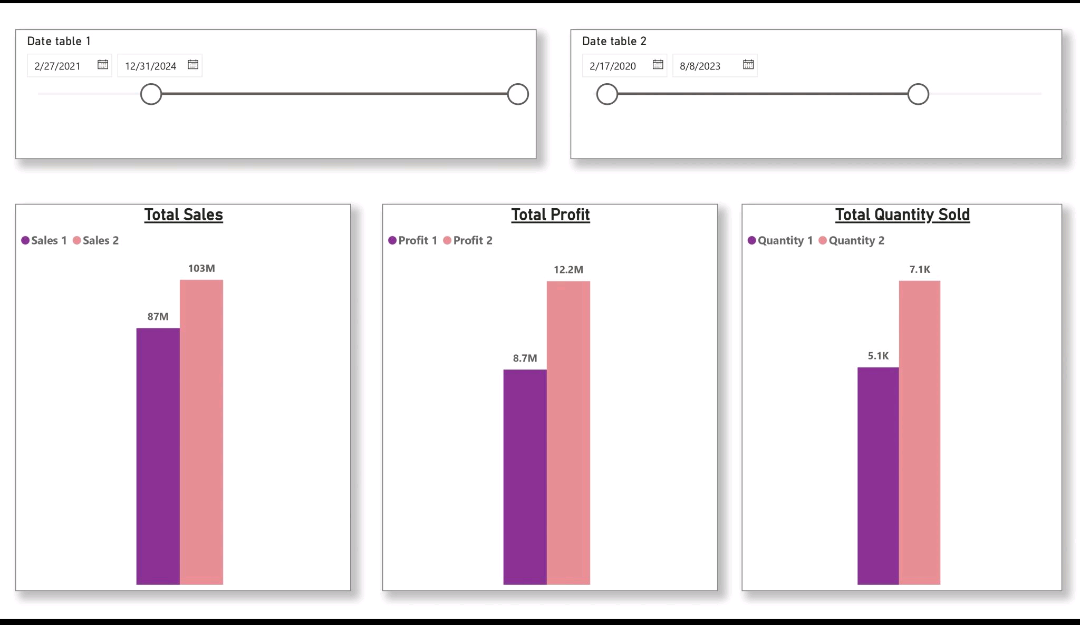

Layout of this report page (visuals, bound fields, positions):
{"tool":"powerbi","page":{"name":"Comparison Sales/Profit/Quantity","canvas":[1280,720],"ordinal":2},"visuals":[{"type":"slicer","fields":{"Values":["Date Table 1.Date"]},"box":[17.5,26.2,617.5,153.8],"z":0},{"type":"slicer","fields":{"Values":["Date Table 2.Date"]},"box":[676.2,26.2,582.5,153.8],"z":1000},{"type":"clusteredColumnChart","title":"Total Sales","fields":{"Y":["Sum(Facts data.Net Sales)","Date Table 2.sum of net sales"]},"box":[17.5,232.5,397.5,458.8],"z":2000},{"type":"clusteredColumnChart","title":"Total Quantity Sold","fields":{"Y":["Sum(Facts data.Units Sold)","Measures Table.total sales"]},"box":[878.8,232.5,380,458.8],"z":3000},{"type":"clusteredColumnChart","title":"Total Profit","fields":{"Y":["Sum(Facts data.Profit)","Measures Table.Total Profit"]},"box":[452.5,232.5,397.5,458.8],"z":4000}]}

Visuals, with their boxes in screenshot pixels (x1, y1, x2, y2), scaled from the page's 1280x720 canvas onto the 1080x625 screenshot:
slicer - Date Table 1.Date: 15:23:536:156
slicer - Date Table 2.Date: 571:23:1062:156
"Total Sales" clusteredColumnChart: 15:202:350:600
"Total Quantity Sold" clusteredColumnChart: 741:202:1062:600
"Total Profit" clusteredColumnChart: 382:202:717:600
